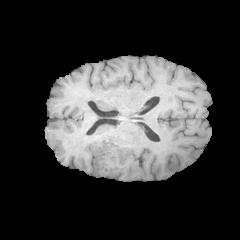glioma: (89, 138, 133, 179)
